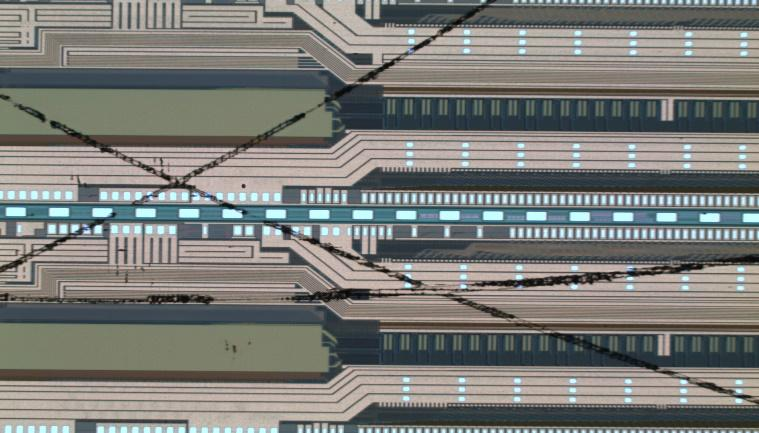SCRATCH: (1, 82, 759, 415), (1, 1, 506, 288), (1, 245, 759, 319)
